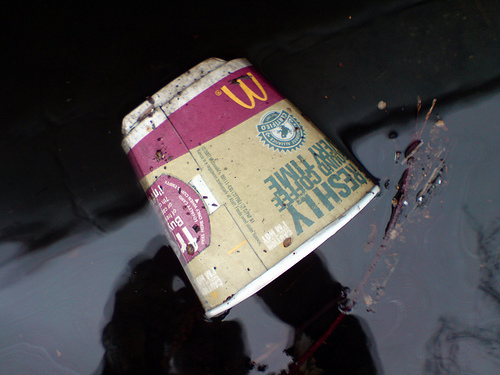litter: (121, 57, 382, 317)
